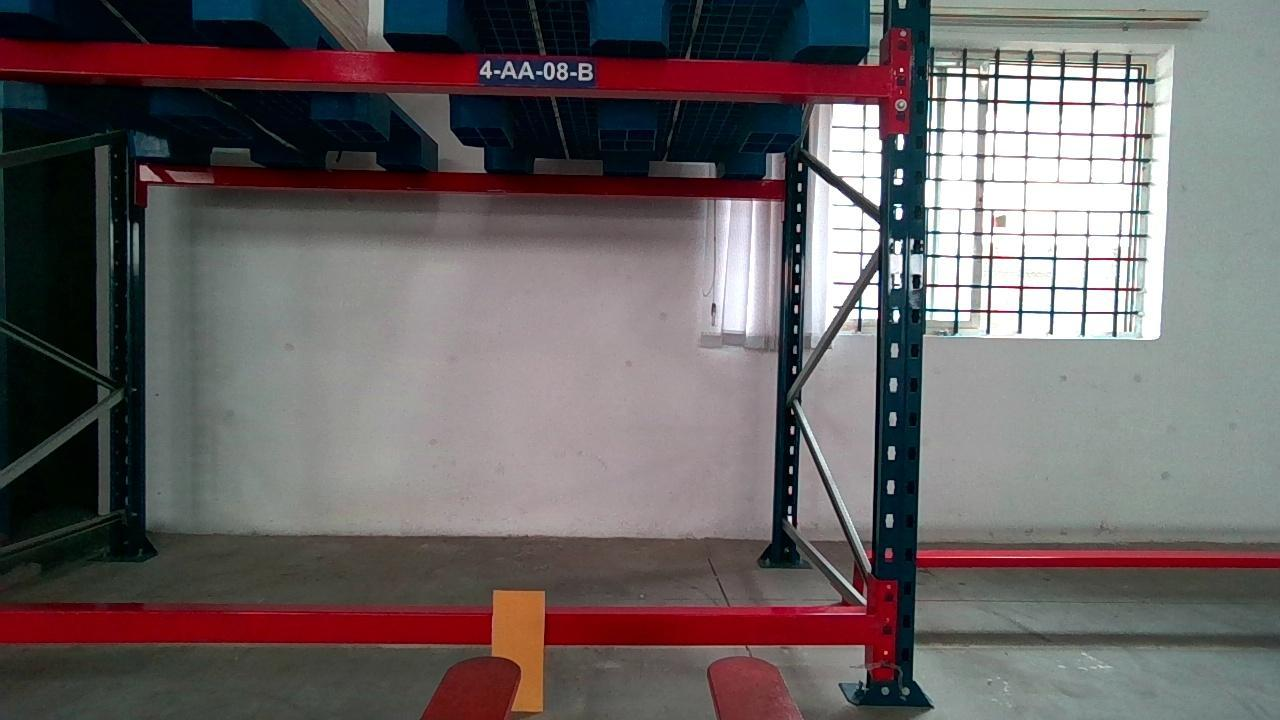h_rack: (0, 36, 889, 95), (1, 608, 870, 645)
orange_strip: (496, 589, 546, 709)
small_pallet: (382, 0, 870, 45)
